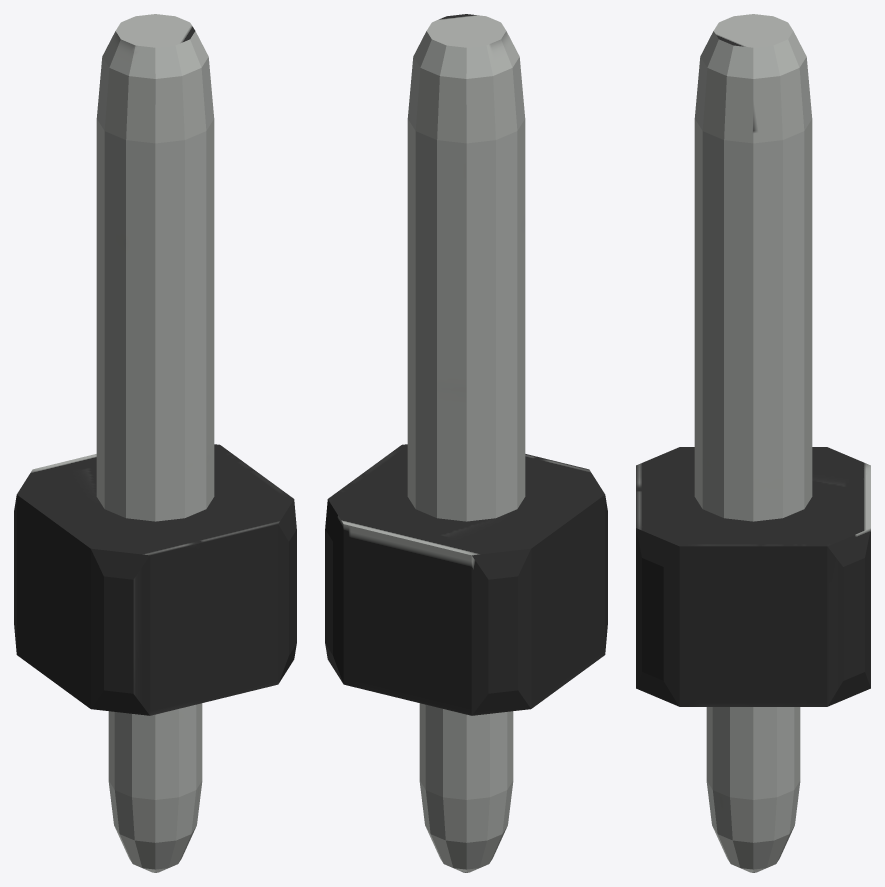
Rendered from OutputPin.obj.
3 renders of one model, left to right at view 1: azimuth 30°, elevation 25°; view 2: azimuth 150°, elevation 25°; view 3: azimuth 270°, elevation 25°, orthographic.
Parts seen in each view (by area): view 1: 柱体; view 2: 柱体; view 3: 柱体.
Boxes of the visible parts, x1,y1,x2,y2 form: 柱体: (14,14,296,872); 柱体: (325,14,607,872); 柱体: (636,14,870,872).
Size of the model in its own units: 0.06 by 0.2366 by 0.06.
1 material, 1 textured.
